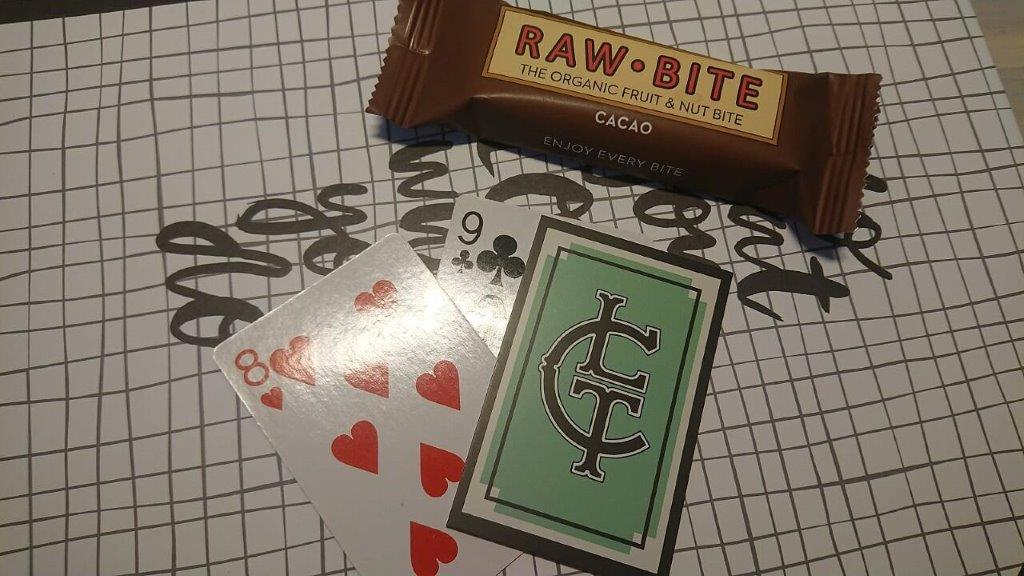8H: (227, 346, 289, 416)
9C: (447, 208, 485, 279)
